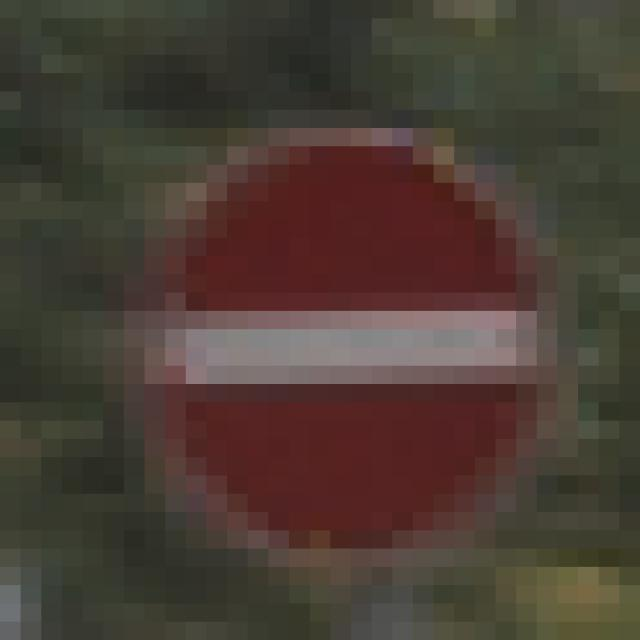No Entry: (125, 111, 538, 550)
